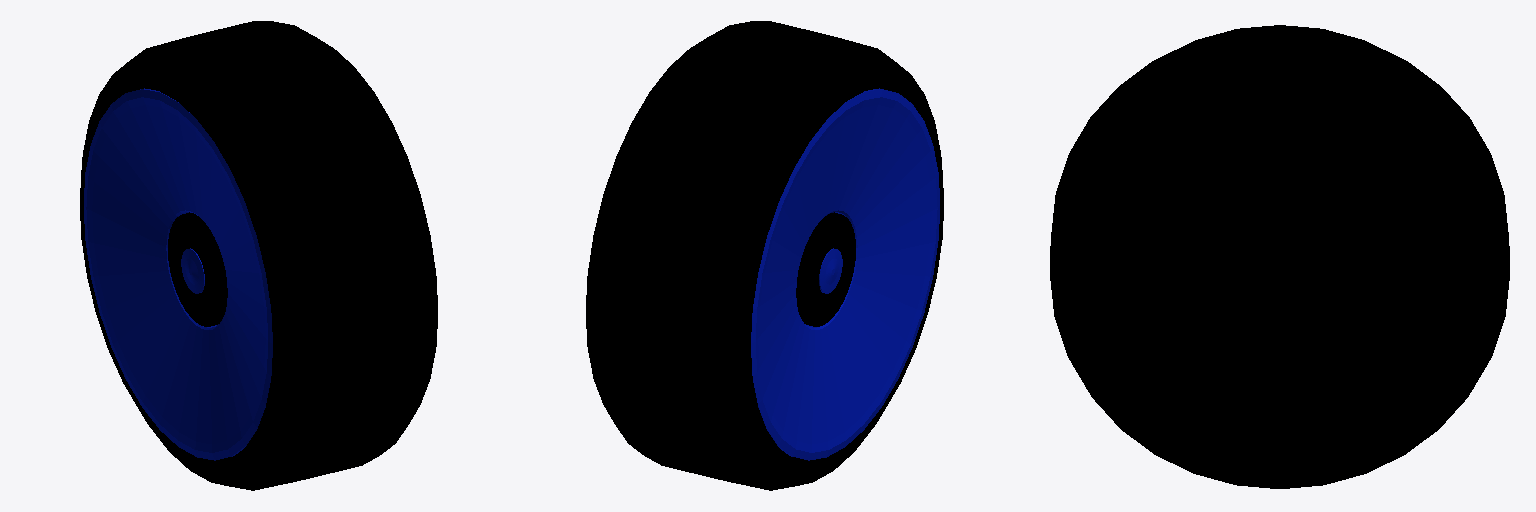
File: Wheels_CarRhie_Bmw.obj
3 views of the same model, side by side, from view 1: azimuth 30°, elevation 25°; view 2: azimuth 150°, elevation 25°; view 3: azimuth 270°, elevation 25° (orthographic).
Parts seen in each view (by area): view 1: Wheel_FL; view 2: Wheel_FL; view 3: Wheel_FL.
Boxes of the visible parts, <box> form: Wheel_FL: <box>80,21,437,490</box>; Wheel_FL: <box>586,21,943,490</box>; Wheel_FL: <box>1050,25,1509,488</box>.
Bounding box in the file's own units: 0.2904 × 0.7344 × 0.7344.